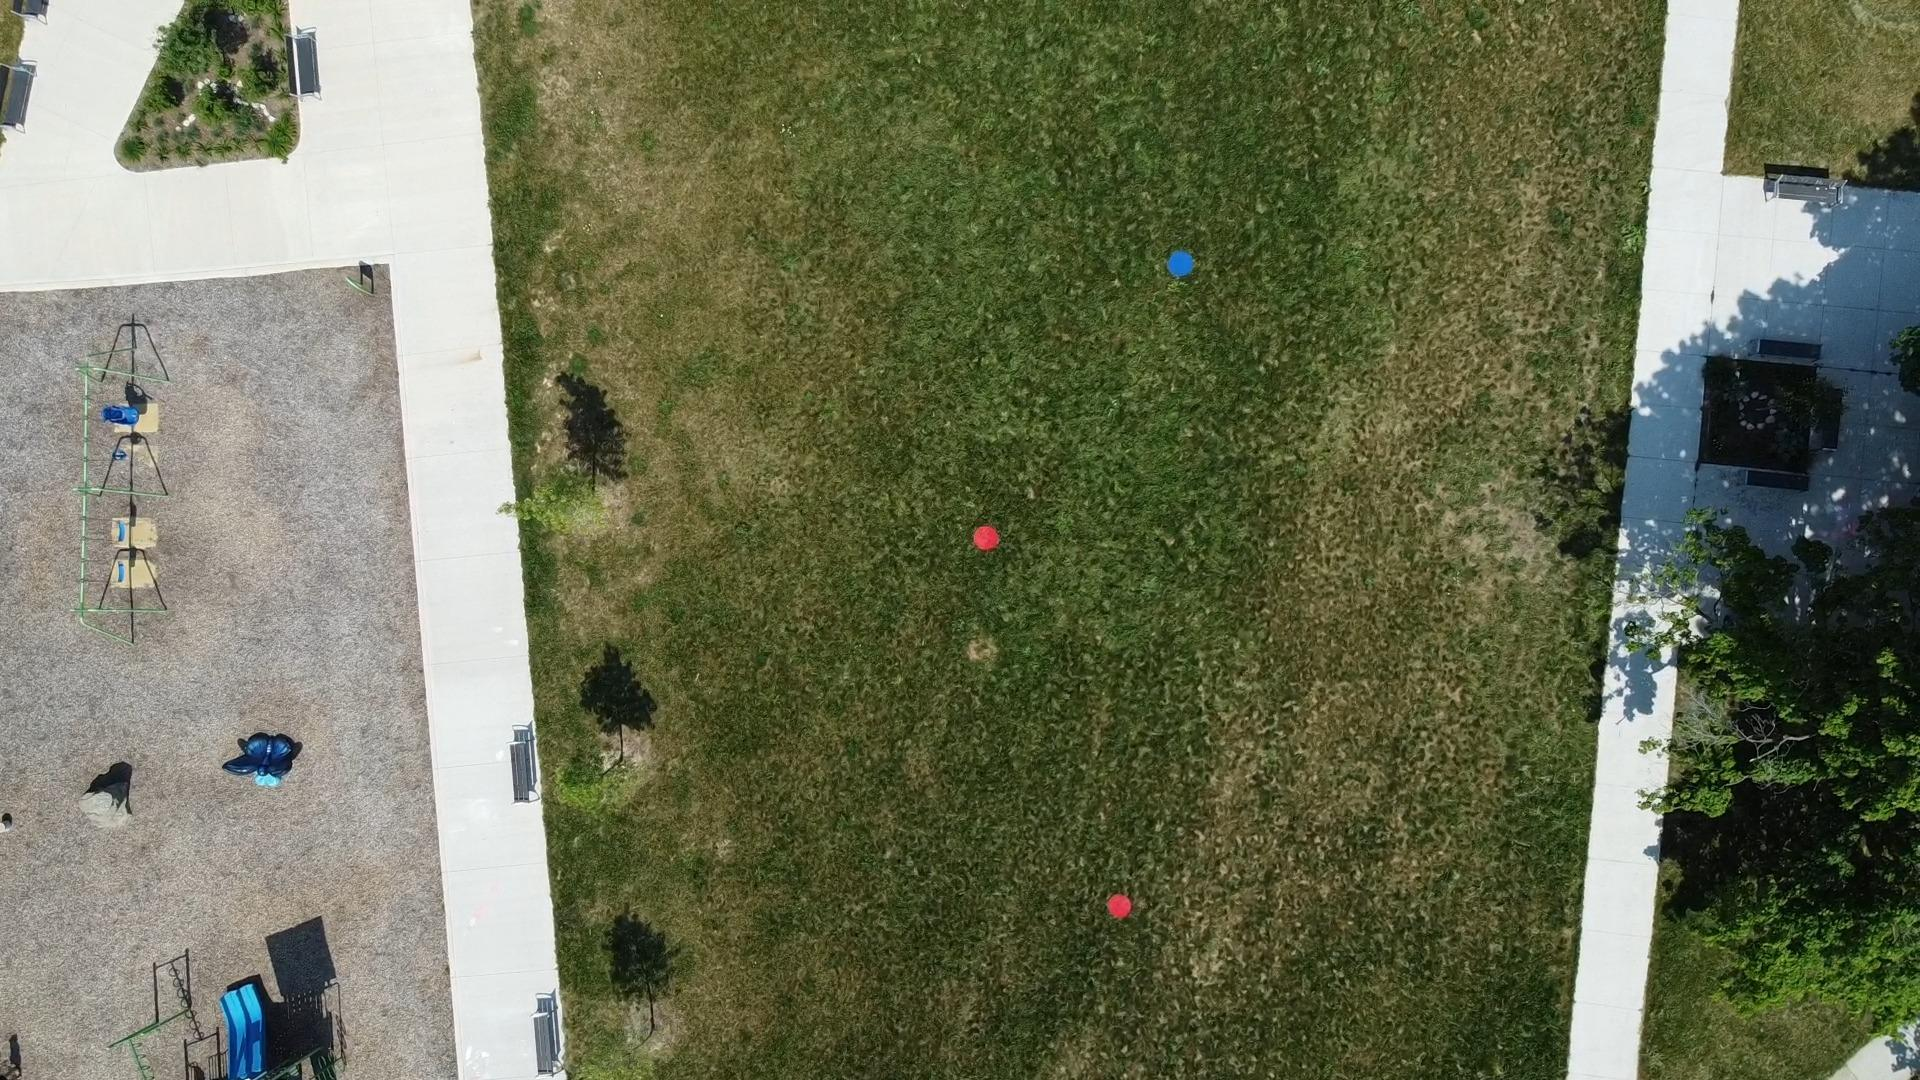Blue: (1167, 249, 1195, 277)
Red: (972, 525, 1001, 551), (1106, 893, 1133, 919)
